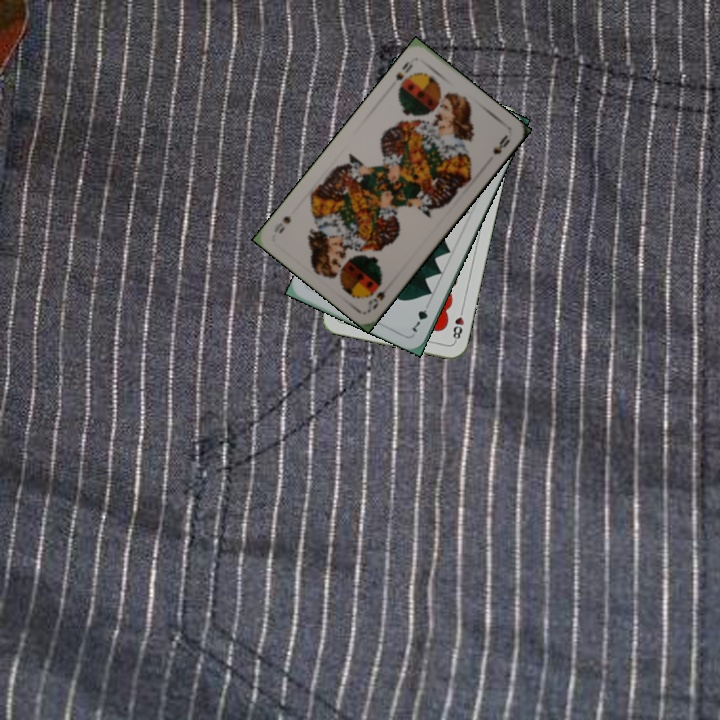G7: (408, 297, 433, 335)
H8: (449, 304, 467, 344)
SO: (363, 286, 388, 312), (391, 57, 416, 83)
